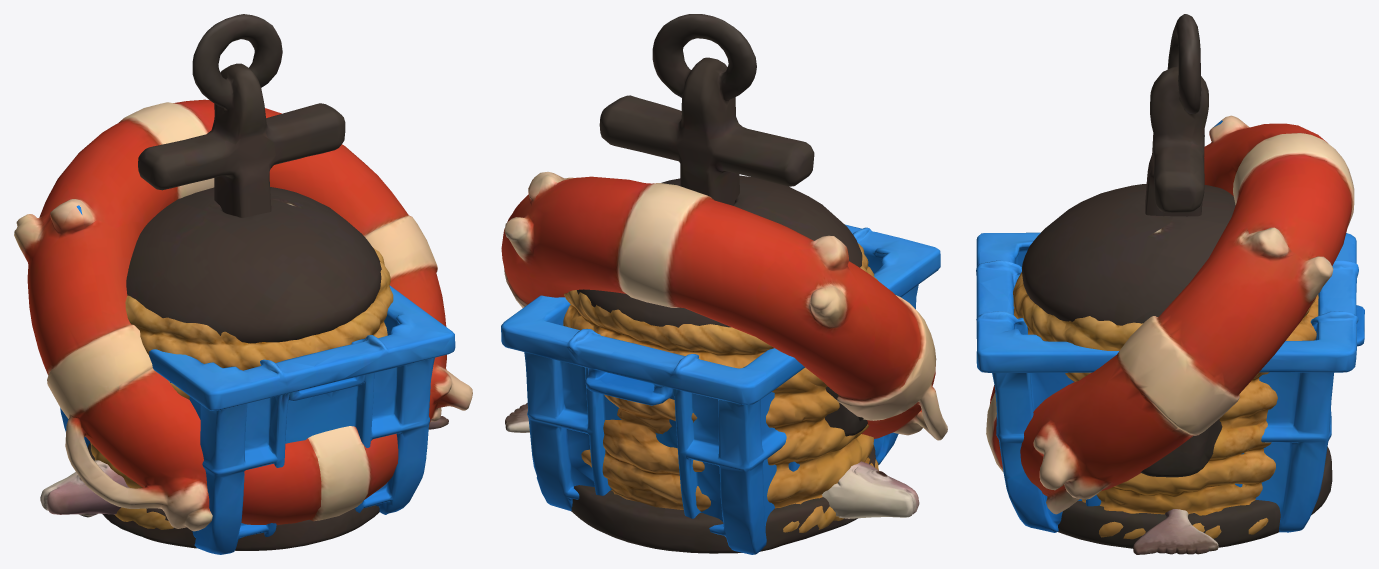
File: port.glb
3 views of the same model, side by side, from view 1: azimuth 30°, elevation 25°; view 2: azimuth 150°, elevation 25°; view 3: azimuth 270°, elevation 25° (orthographic). The views are drawn at different scales.
Parts seen in each view (by area): view 1: bouee-sauvetage, bitte-amarrage, caisse-poissons, ancre, rouleau-corde, saumon; view 2: bouee-sauvetage, caisse-poissons, rouleau-corde, ancre, bitte-amarrage, saumon; view 3: bouee-sauvetage, caisse-poissons, bitte-amarrage, rouleau-corde, ancre, saumon.
Boxes of the visible parts, left/top/right/bottom form: bouee-sauvetage: left=14, top=99, right=472, bottom=531; bitte-amarrage: left=87, top=187, right=381, bottom=550; caisse-poissons: left=60, top=285, right=455, bottom=554; ancre: left=138, top=14, right=345, bottom=217; rouleau-corde: left=90, top=247, right=393, bottom=529; saumon: left=40, top=416, right=448, bottom=517; bouee-sauvetage: left=501, top=172, right=947, bottom=440; caisse-poissons: left=501, top=224, right=940, bottom=554; rouleau-corde: left=563, top=243, right=878, bottom=532; ancre: left=599, top=14, right=867, bottom=436; bitte-amarrage: left=571, top=175, right=875, bottom=553; saumon: left=505, top=403, right=919, bottom=518; bouee-sauvetage: left=986, top=115, right=1354, bottom=514; caisse-poissons: left=976, top=232, right=1364, bottom=532; bitte-amarrage: left=1021, top=184, right=1332, bottom=548; rouleau-corde: left=1013, top=272, right=1320, bottom=539; ancre: left=1140, top=14, right=1222, bottom=477; saumon: left=1133, top=509, right=1218, bottom=554.
Size of the model in its own units: 0.6999 by 0.7996 by 0.5996.
Materials: 4 (4 with a texture image).
